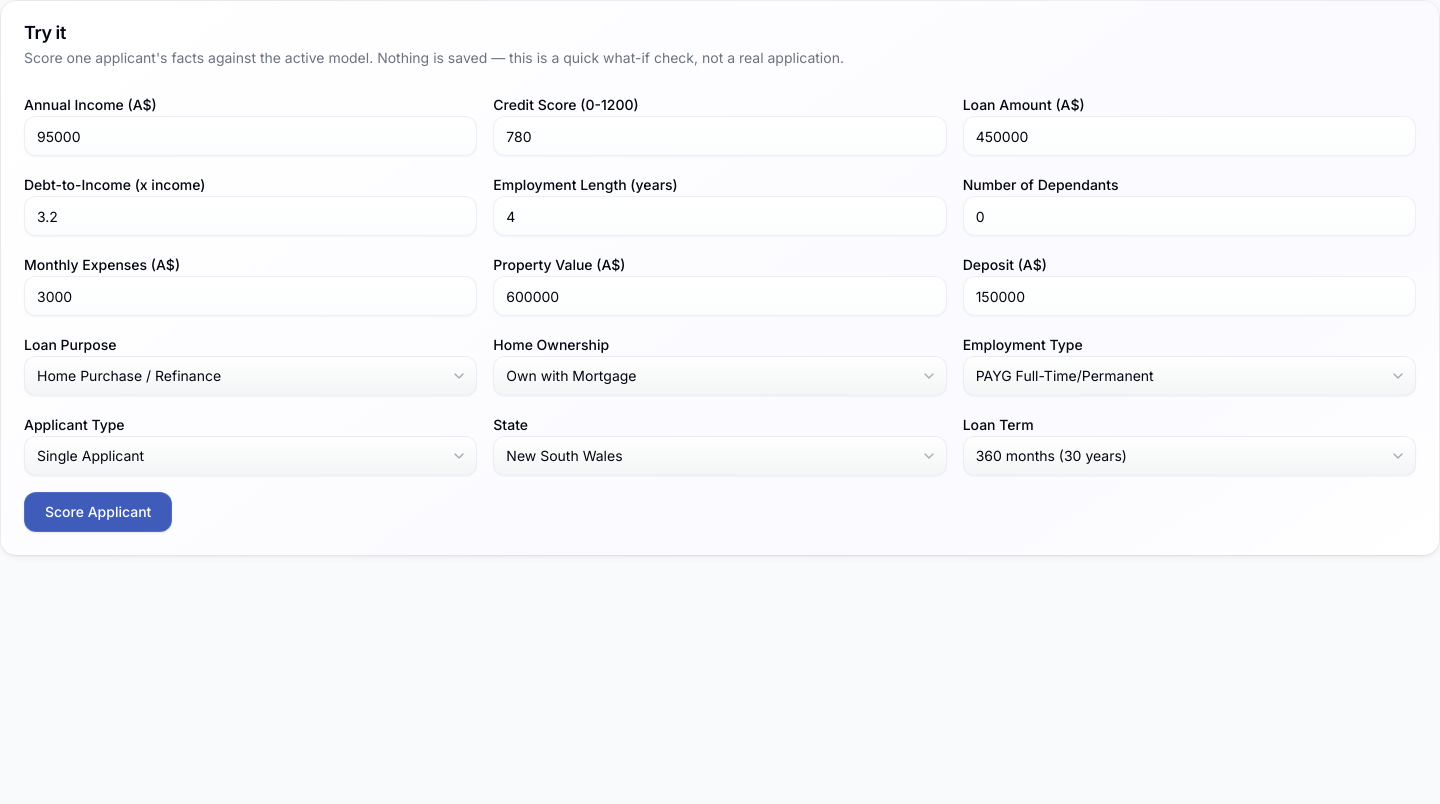
Test: TryItTab › shows a policy rules line when the overlay evaluated P-codes
Click the button "Score Applicant": (98, 512) [24,492,172,532]
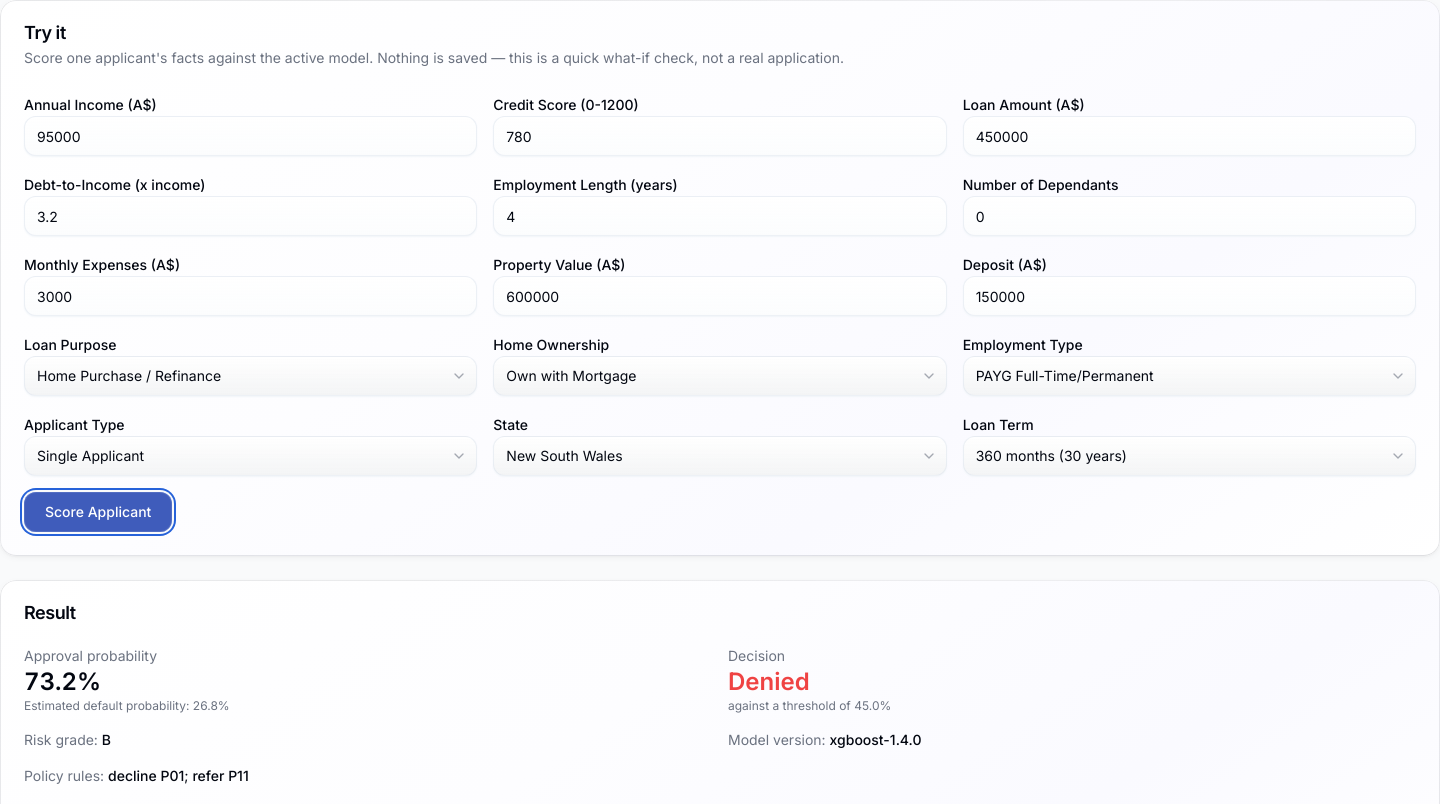
Check: the text "Policy rules: decline P01; refer P11" is shown, box [24,767,249,784]
